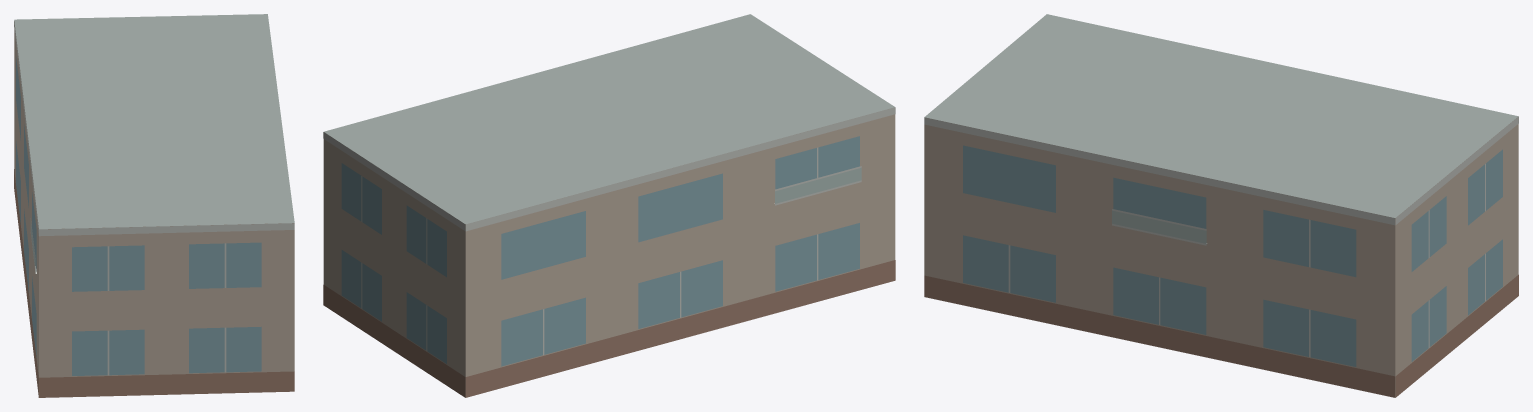
The model's file is survey-upis-32894317.glb.
The picture shows the model from 3 angles, left to right: view 1: azimuth 30°, elevation 25°; view 2: azimuth 150°, elevation 25°; view 3: azimuth 270°, elevation 25°; orthographic projection. The views are drawn at different scales.
Visible parts, largest first — view 1: survey-upis-32894317.tmp; view 2: survey-upis-32894317.tmp; view 3: survey-upis-32894317.tmp.
Boxes of the visible parts, left/top/right/bottom form: survey-upis-32894317.tmp: left=14, top=14, right=294, bottom=397; survey-upis-32894317.tmp: left=323, top=14, right=895, bottom=397; survey-upis-32894317.tmp: left=924, top=14, right=1518, bottom=397.
Size of the model in its own units: 14.62 by 6 by 17.99.
